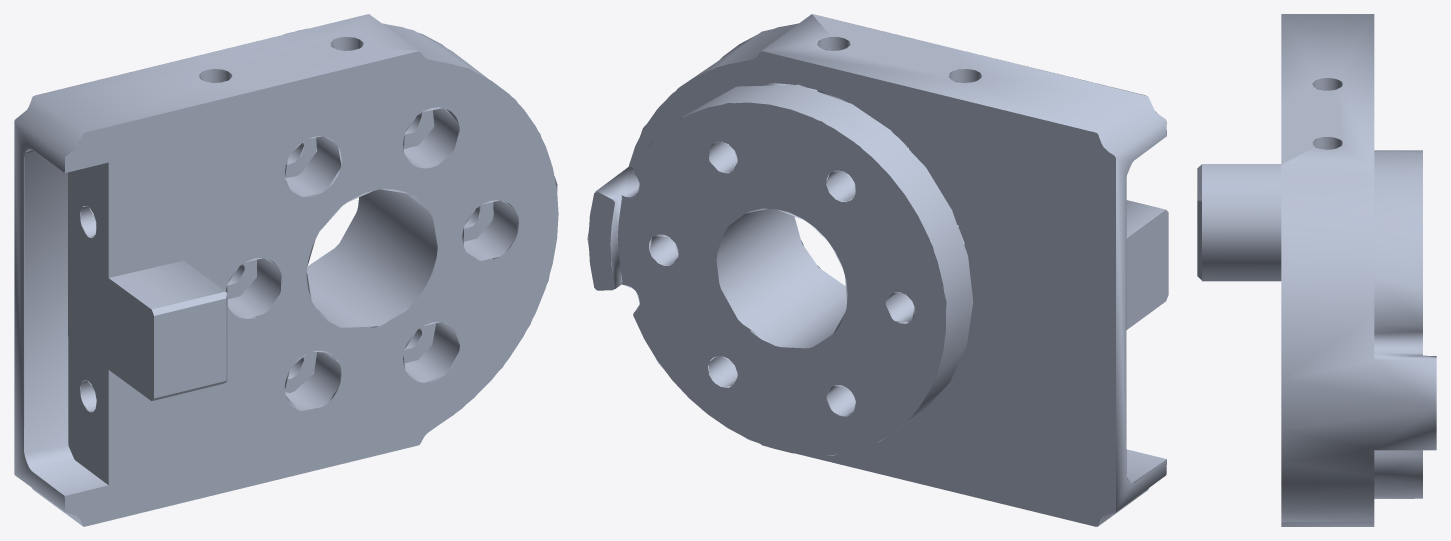
3 renders of one model, left to right at view 1: azimuth 30°, elevation 25°; view 2: azimuth 150°, elevation 25°; view 3: azimuth 270°, elevation 25°, orthographic. The views are drawn at different scales.
Parts seen in each view (by area): view 1: link2_02; view 2: link2_02; view 3: link2_02.
Part boxes in pixels (x1,y1,x2,y2): link2_02: [14, 14, 558, 526]; link2_02: [587, 14, 1168, 526]; link2_02: [1197, 14, 1436, 526].
Bounding box in the file's own units: 0.0565 × 0.043 × 0.0257.
